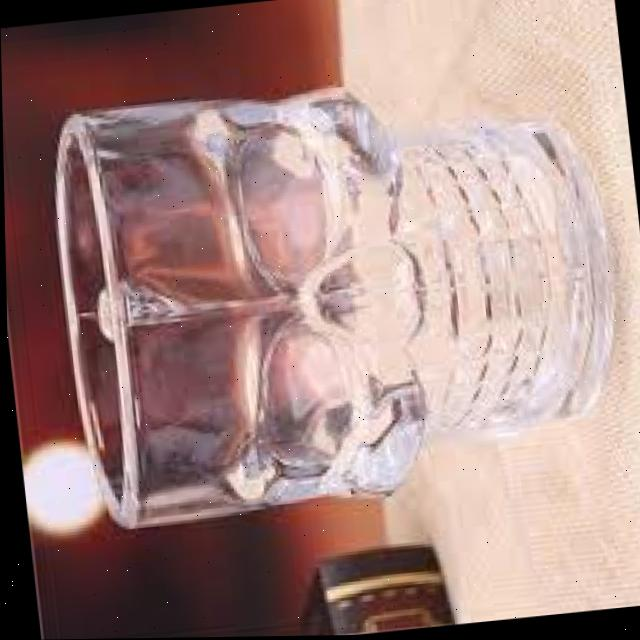Dry: (31, 48, 640, 542)
